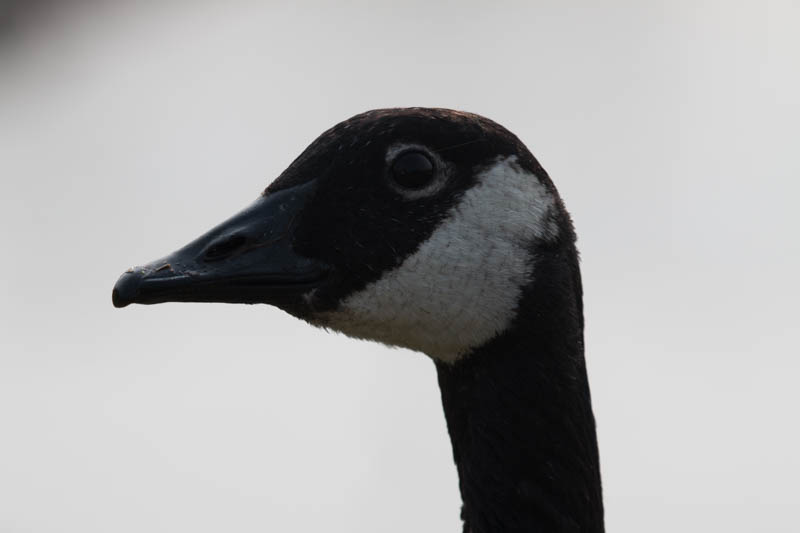goose-head: (113, 107, 585, 370)
